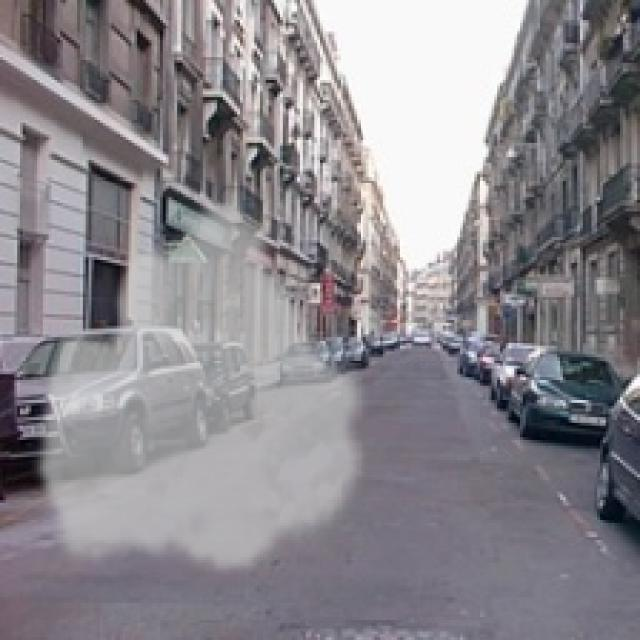Smoke: (32, 192, 374, 577)
